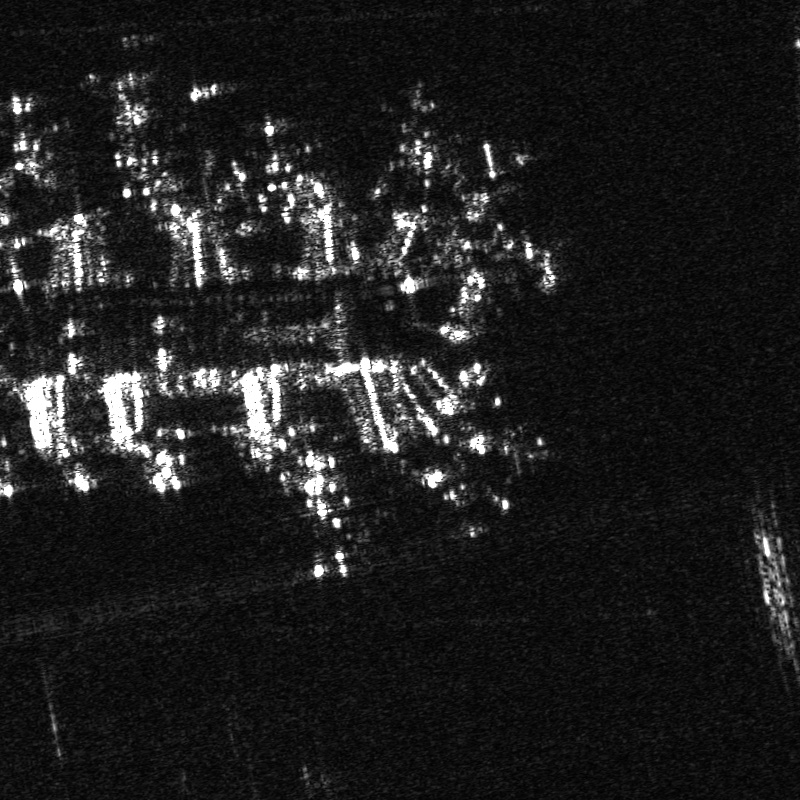A320/321: (260, 470, 384, 586), (93, 62, 186, 207), (229, 108, 342, 197), (370, 87, 460, 186), (455, 414, 555, 485)
Boeing737: (416, 460, 522, 538)
other: (1, 82, 89, 203)
